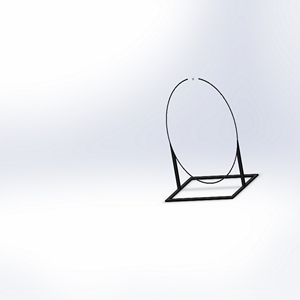circle: (164, 76, 258, 203)
